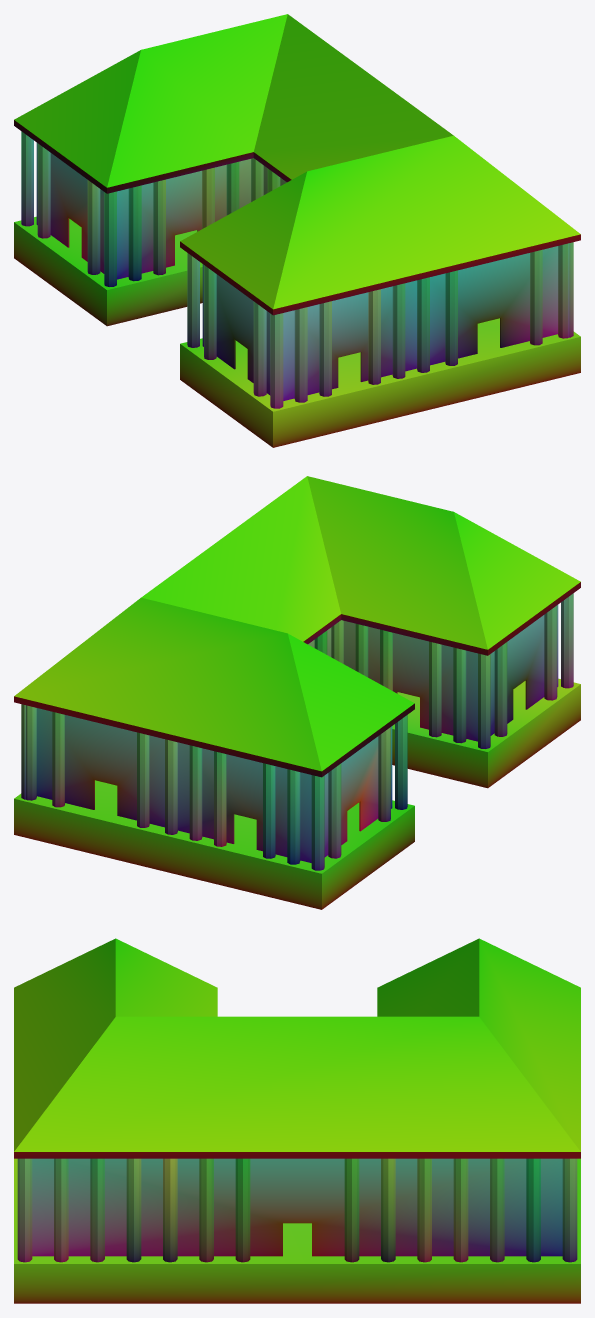
Rendered from MS_BuildingLarge_04_Col.fbx.
3 renders of one model, top to bottom at view 1: azimuth 30°, elevation 25°; view 2: azimuth 150°, elevation 25°; view 3: azimuth 270°, elevation 25°, orthographic. The views are drawn at different scales.
Parts seen in each view (by area): view 1: MS_BuildingLarge_04_Col; view 2: MS_BuildingLarge_04_Col; view 3: MS_BuildingLarge_04_Col.
Boxes of the visible parts, bbox=[...] form: MS_BuildingLarge_04_Col: bbox=[14, 14, 580, 447]; MS_BuildingLarge_04_Col: bbox=[14, 476, 580, 909]; MS_BuildingLarge_04_Col: bbox=[14, 938, 580, 1303].
Size of the model in its own units: 5350 by 3700 by 7800.
